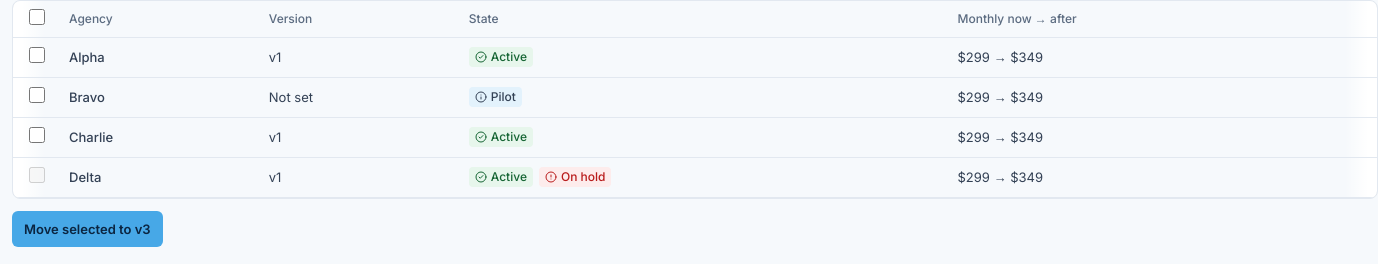
Test: PlanAgencies › a held row is disabled with the hold chip; select-all skips it
Expected: the checkbox named "Select Delta" is disabled, 29,167 -> 45,183
Expected: the text "On hold" is shown, 539,167 -> 611,187
Click the checkbox named "Select all agencies": [37, 17] box 29,9 -> 45,25
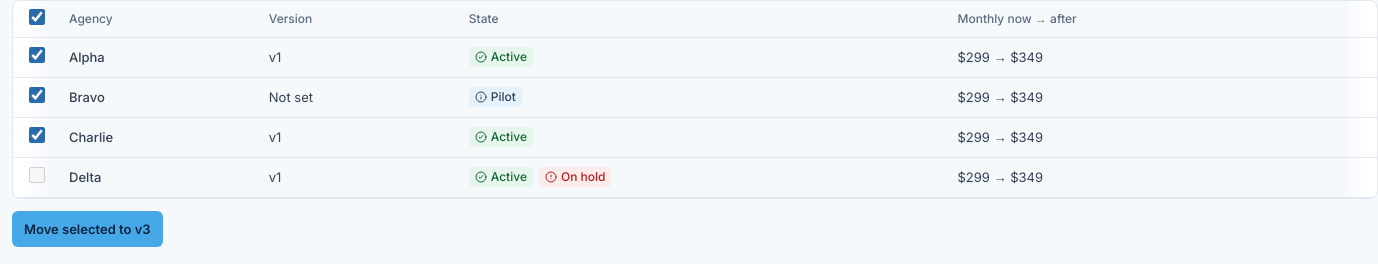
Click the checkbox named "Select all agencies": [37, 17] box 29,9 -> 45,25
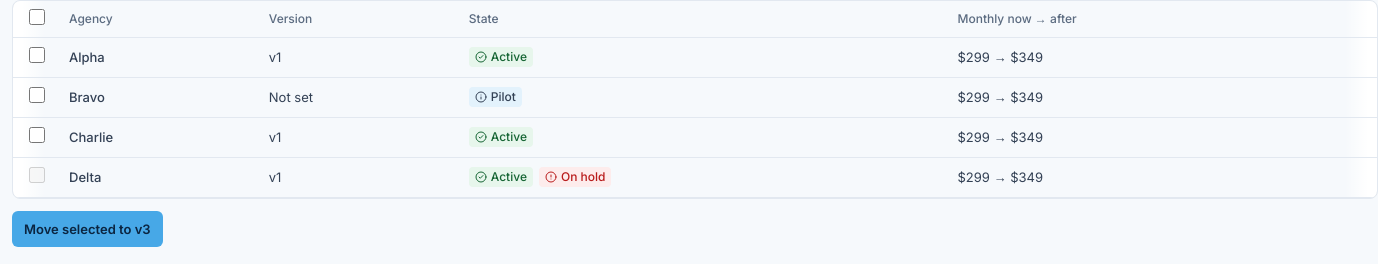
Expected: the checkbox named "Select Alpha" is not checked, 29,47 -> 45,63
